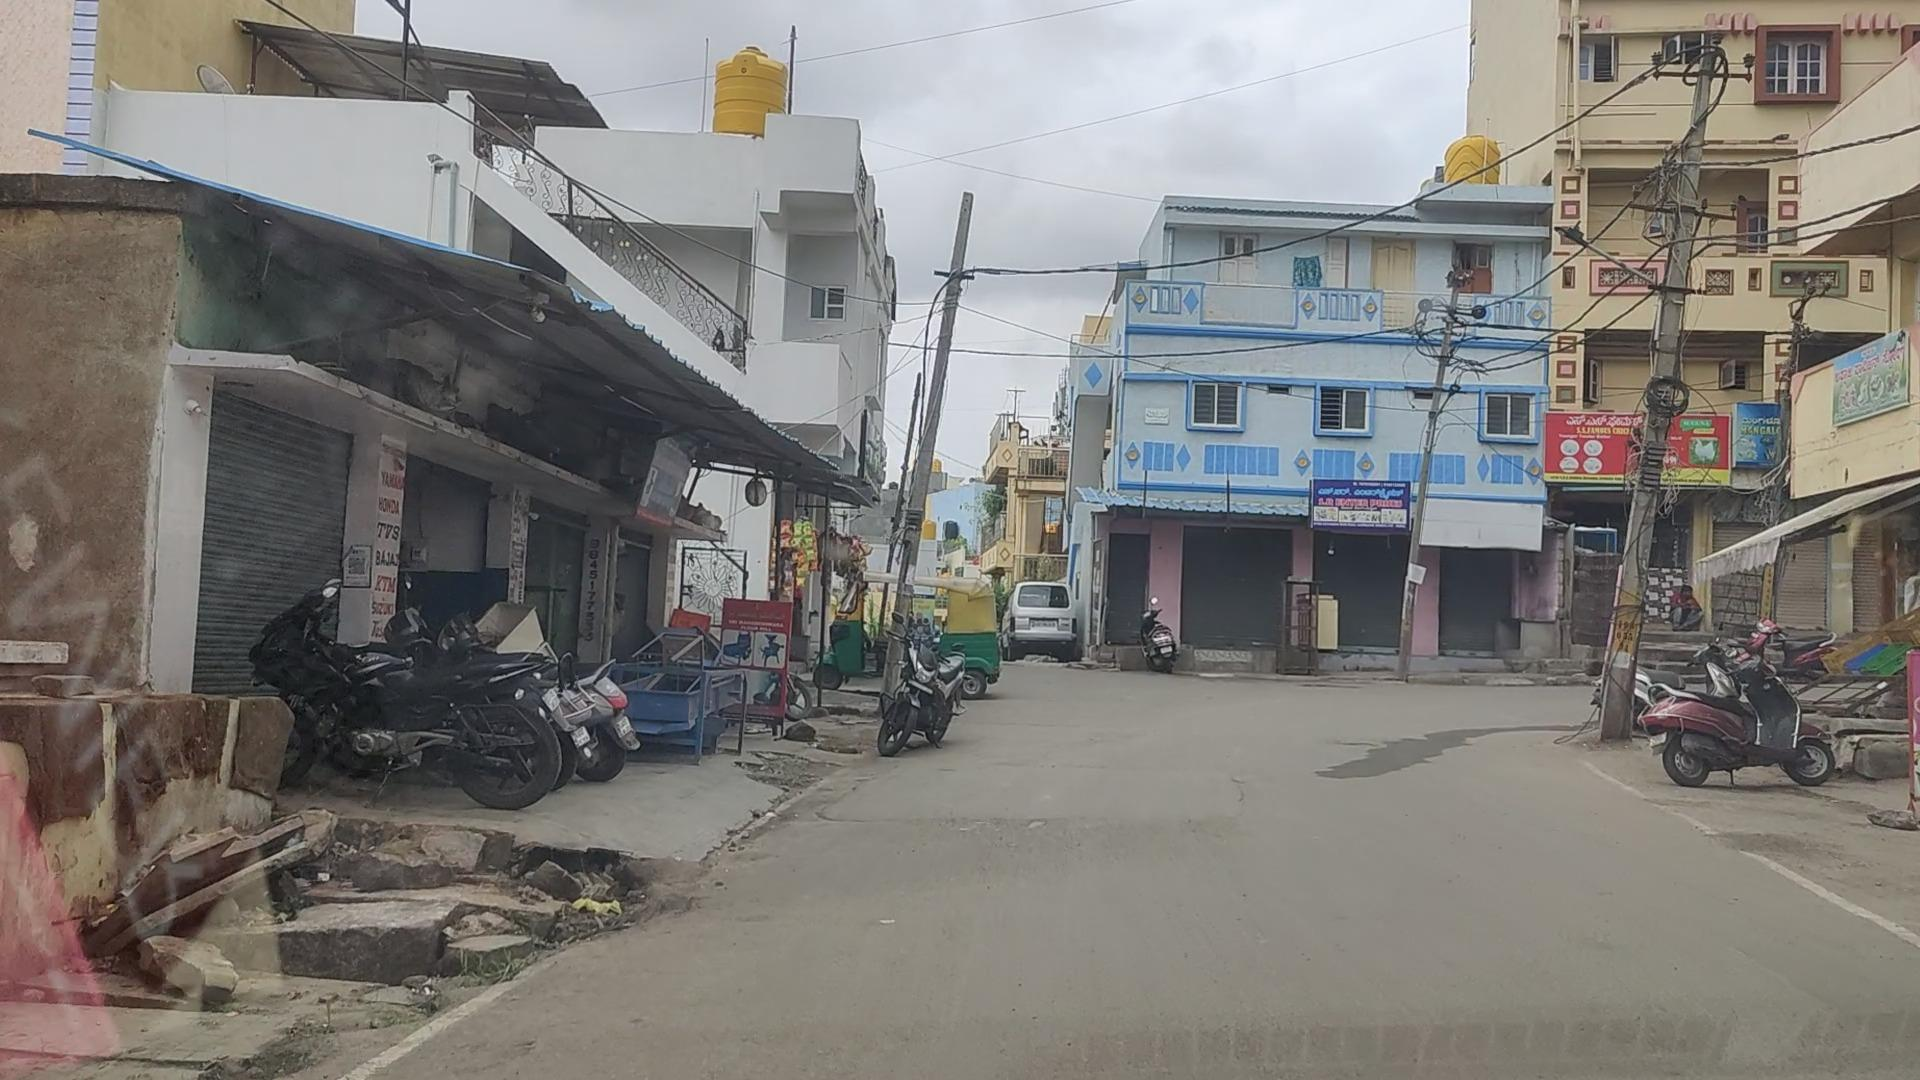RoadDamages: (822, 802, 1065, 840), (1228, 771, 1251, 820)
